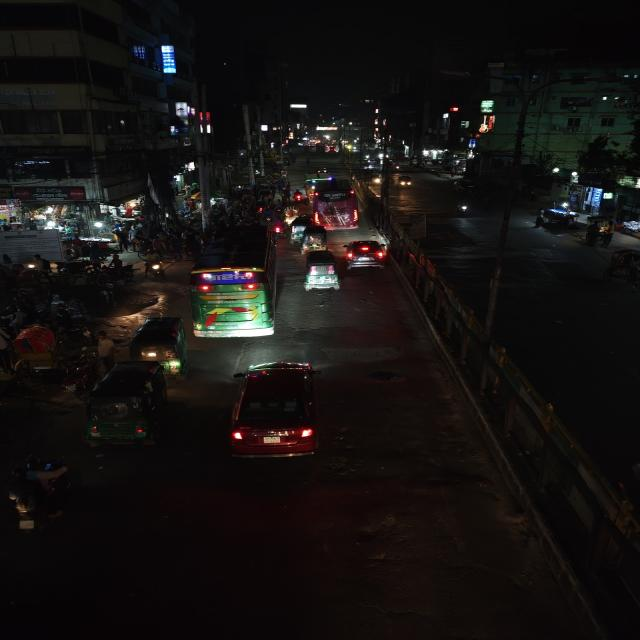bus: (187, 227, 283, 342), (310, 181, 365, 230)
car: (224, 358, 326, 464), (339, 235, 392, 271)
cng: (80, 359, 171, 454), (128, 315, 188, 375), (300, 250, 342, 293), (302, 225, 328, 250), (288, 214, 311, 242), (396, 174, 415, 189)
motorcycle: (1, 458, 73, 538), (94, 262, 138, 288), (138, 254, 172, 283), (454, 200, 472, 218), (272, 216, 286, 236), (291, 190, 305, 204)
pedestrian: (85, 330, 117, 360), (533, 207, 544, 232)
rickshaw: (8, 325, 71, 379), (602, 247, 640, 291)
